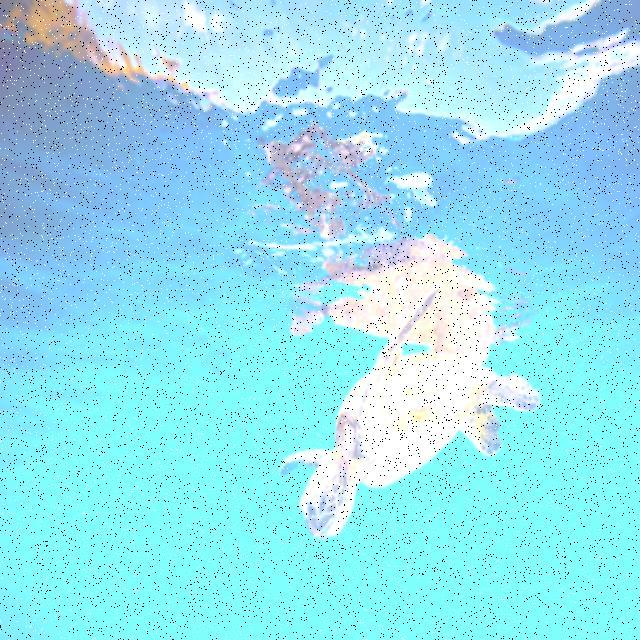tortoise: (280, 358, 546, 548)
